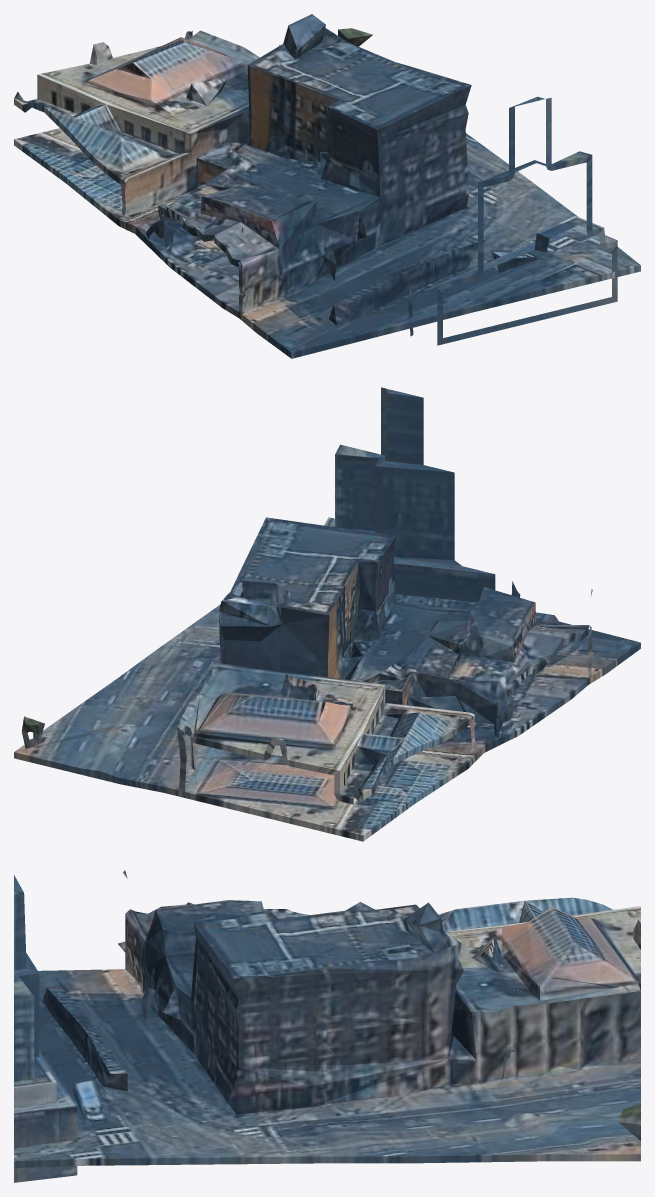
Rendered from chunk_-8_0.glb.
The picture shows the model from 3 angles, top to bottom: view 1: azimuth 30°, elevation 25°; view 2: azimuth 150°, elevation 25°; view 3: azimuth 270°, elevation 25°; orthographic projection. The views are drawn at different scales.
Parts seen in each view (by area): view 1: hero-chunk; view 2: hero-chunk; view 3: hero-chunk.
Boxes of the visible parts, left/top/right/bottom form: hero-chunk: left=14, top=14, right=640, bottom=358; hero-chunk: left=14, top=387, right=640, bottom=841; hero-chunk: left=14, top=870, right=640, bottom=1182.
Size of the model in its own units: 55.43 by 33.39 by 76.32.
Materials: 2 (2 with a texture image).
